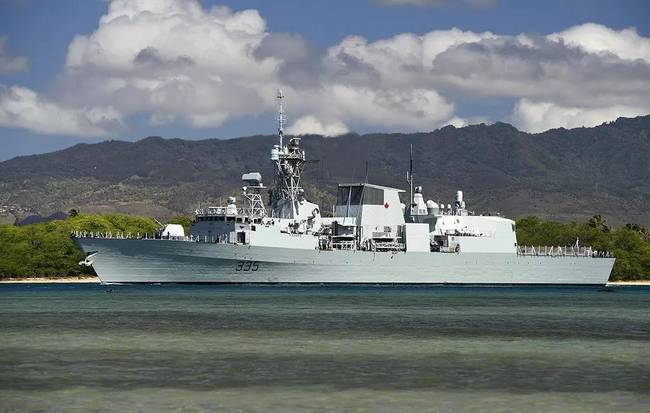warship: (62, 83, 618, 287)
